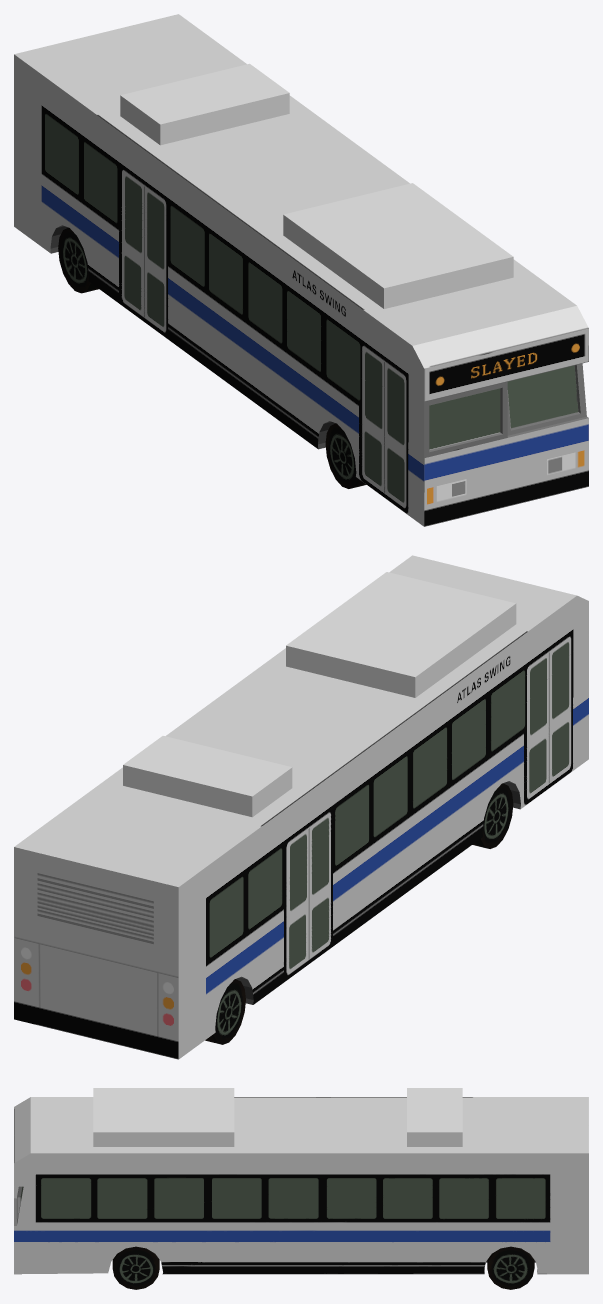
Rendered from car_bus_v1.fbx.
3 renders of one model, top to bottom at view 1: azimuth 30°, elevation 25°; view 2: azimuth 150°, elevation 25°; view 3: azimuth 270°, elevation 25°, orthographic. The views are drawn at different scales.
Parts seen in each view (by area): view 1: Cube.002, Cube.003, Cube.005, Wheels.008; view 2: Cube.002, Cube.003, Cube.005, Wheels.008; view 3: Cube.002, Cube.003, Wheels.008, Cube.005.
Boxes of the visible parts, bbox=[...] form: Cube.002: bbox=[14, 14, 588, 526]; Cube.003: bbox=[283, 183, 513, 308]; Cube.005: bbox=[120, 63, 289, 145]; Wheels.008: bbox=[58, 227, 366, 488]; Cube.002: bbox=[14, 555, 588, 1059]; Cube.003: bbox=[286, 572, 516, 697]; Cube.005: bbox=[123, 736, 292, 817]; Wheels.008: bbox=[205, 783, 513, 1044]; Cube.002: bbox=[14, 1097, 588, 1274]; Cube.003: bbox=[93, 1088, 234, 1146]; Wheels.008: bbox=[112, 1246, 534, 1289]; Cube.005: bbox=[407, 1088, 462, 1146].
Size of the model in its own units: 298 by 377 by 1283.
